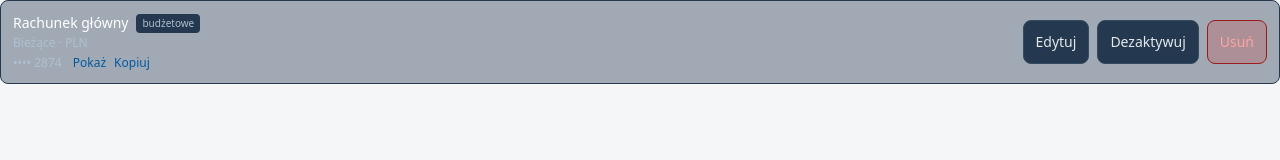
Test: AccountRow inactive accounts and IBAN copying › announces a successful IBAN copy
The width and height of the screenshot is (1280, 160).
Click the button "Kopiuj" at point(132, 63), box [114, 55, 150, 71]
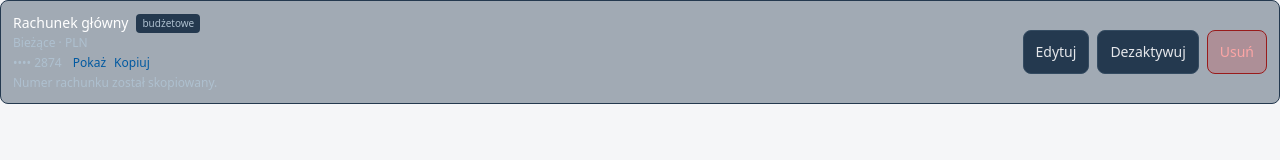
Now the message reads "Numer rachunku został skopiowany.", box [13, 74, 217, 91]
